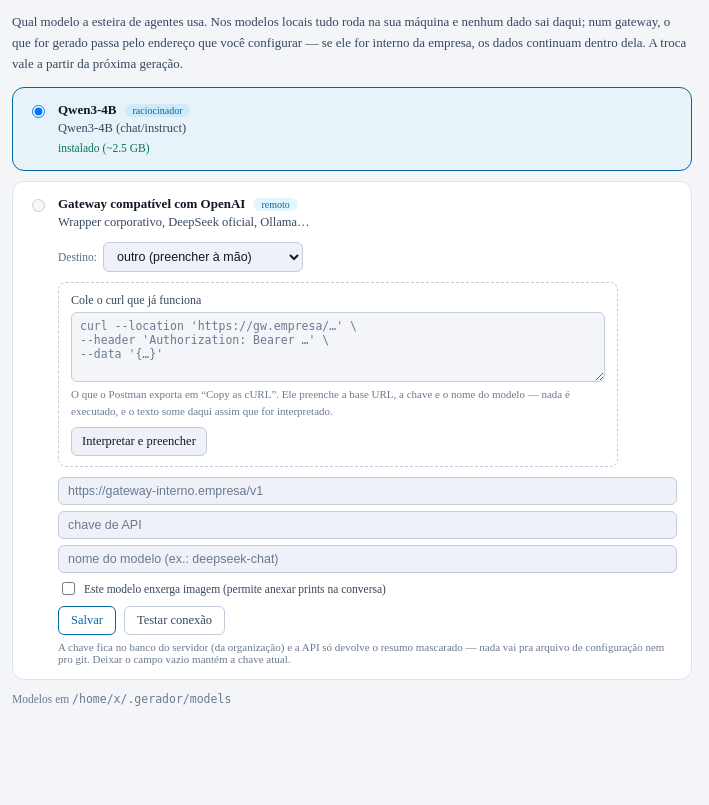
Test: ModeloIaTab — avisos do destino (SPEC-30) › Ollama avisa que NÃO transcreve, e diz como subir a voz
Expected: the element with test id "modelo-ia-compativel-openai" is shown, [12, 181, 692, 680]
Type "http://ollama:11434/v1" into the field named "Base URL do gateway". click: (368, 491)
box: [58, 477, 677, 505]
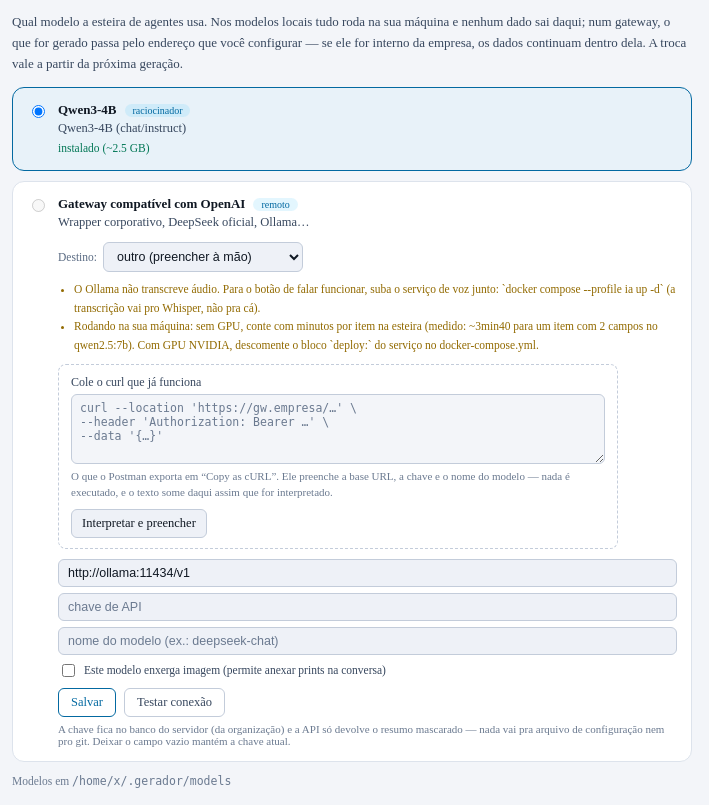
Expected: the list with test id "avisos-do-destino" shows "não transcreve", [74, 283, 676, 314]
Expected: the list with test id "avisos-do-destino" shows "--profile ia", [74, 283, 676, 314]
